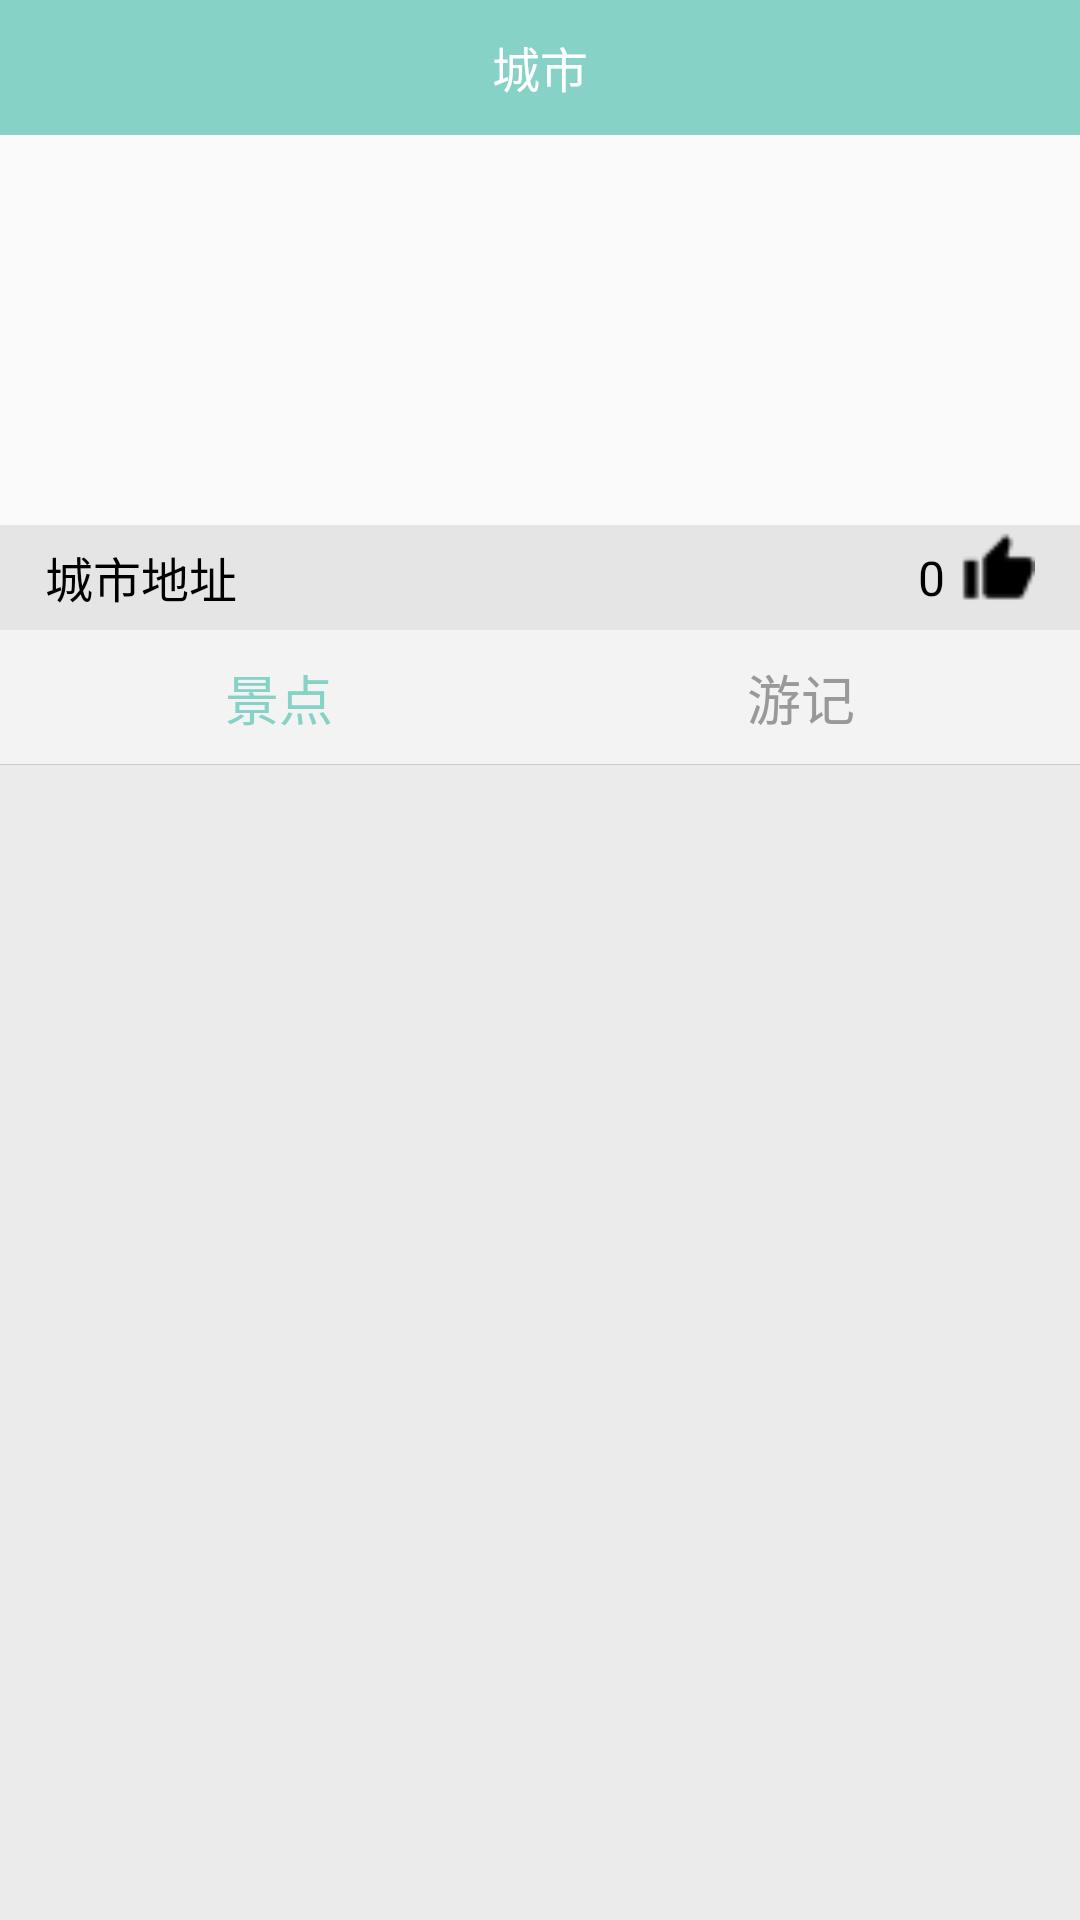

Locate icon controls on the screen. Image size 1080x1920, boxes as (x1, y1, x2, y2).
good: (962, 534, 1035, 600)
